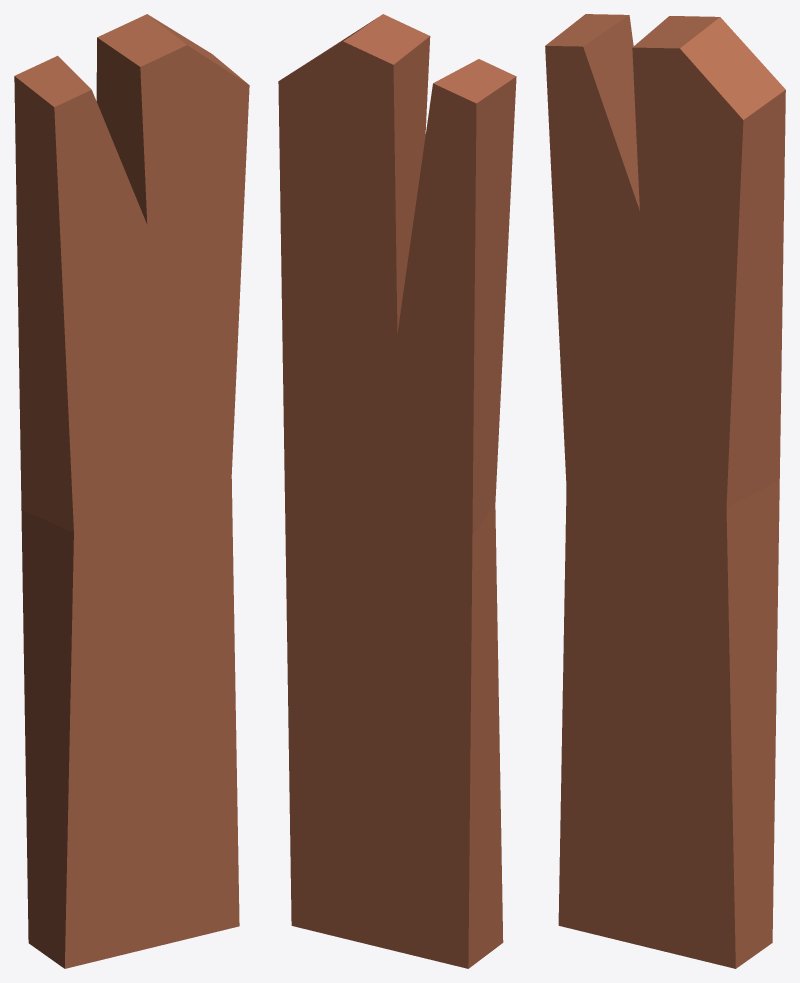
The model's file is Plank 02.fbx.
3 renders of one model, left to right at view 1: azimuth 30°, elevation 25°; view 2: azimuth 150°, elevation 25°; view 3: azimuth 330°, elevation 25°, orthographic.
Visible parts, largest first — view 1: Plank 02; view 2: Plank 02; view 3: Plank 02.
Part boxes in pixels (x1,y1,x2,y2): Plank 02: [14, 14, 249, 968]; Plank 02: [278, 14, 516, 968]; Plank 02: [545, 14, 785, 968].
Bounding box in the file's own units: 22.92 × 99.39 × 8.01.
